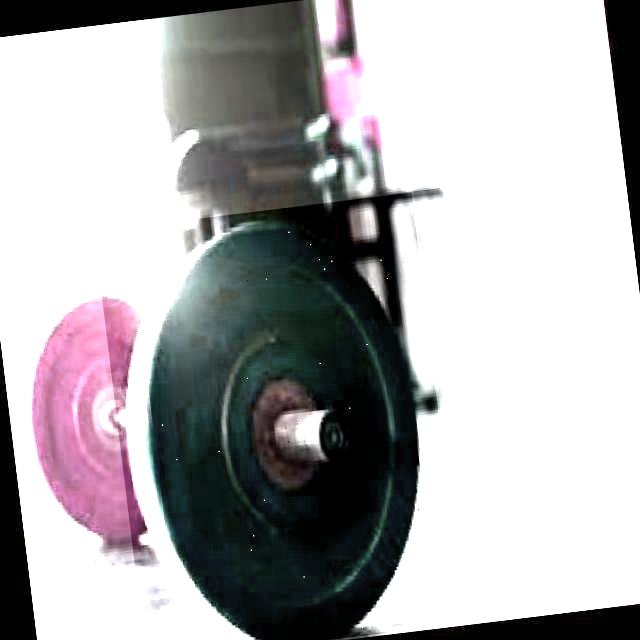barbell: (93, 192, 465, 640)
